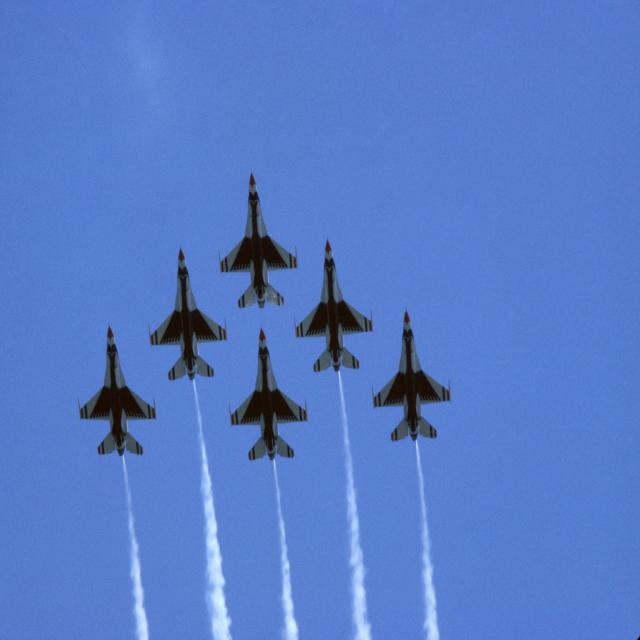MIL_Plane: (218, 167, 298, 309), (294, 234, 374, 373), (148, 243, 228, 381), (228, 323, 308, 461), (372, 306, 451, 443), (77, 322, 156, 456)
